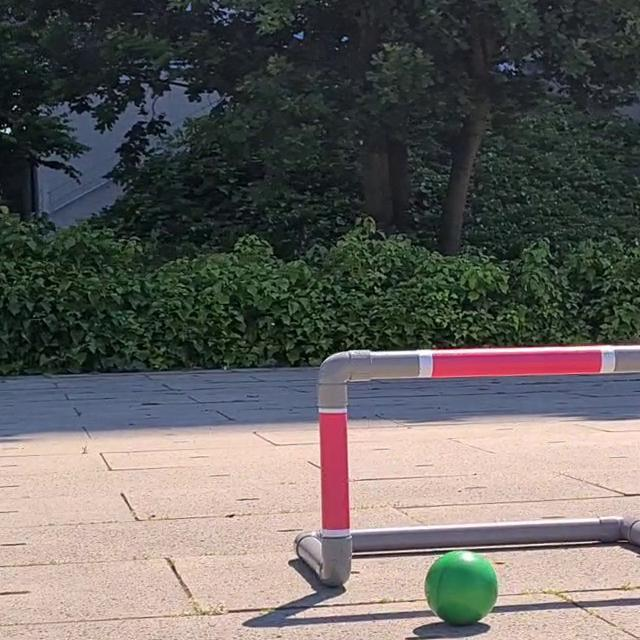ball: (426, 544, 500, 628)
